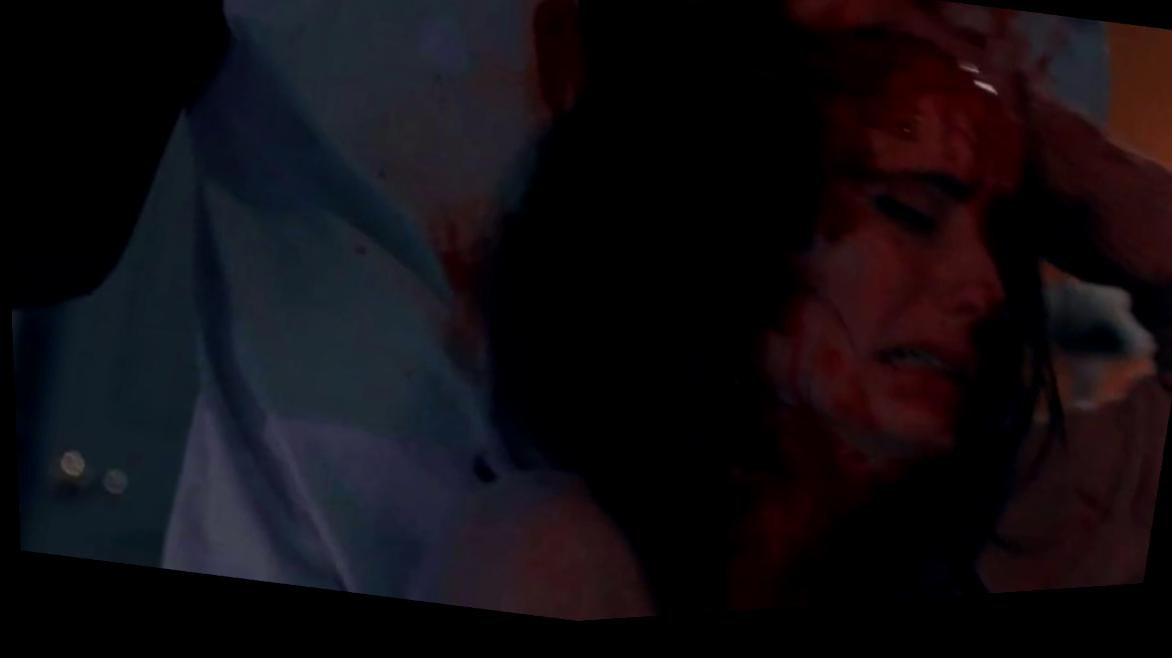Fire: (418, 0, 1172, 629)
